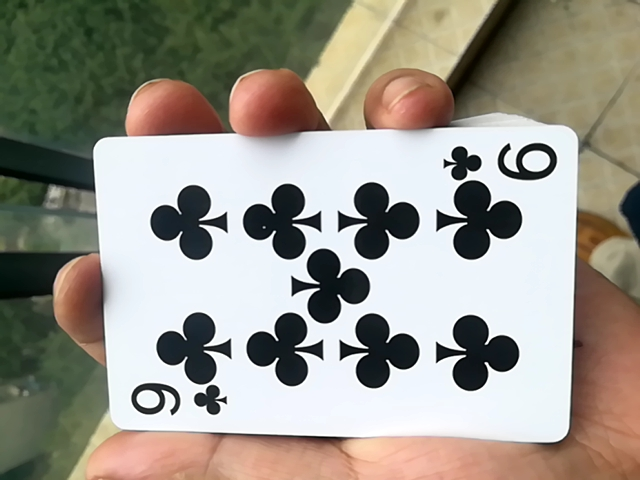mh 9: (87, 125, 575, 450)
